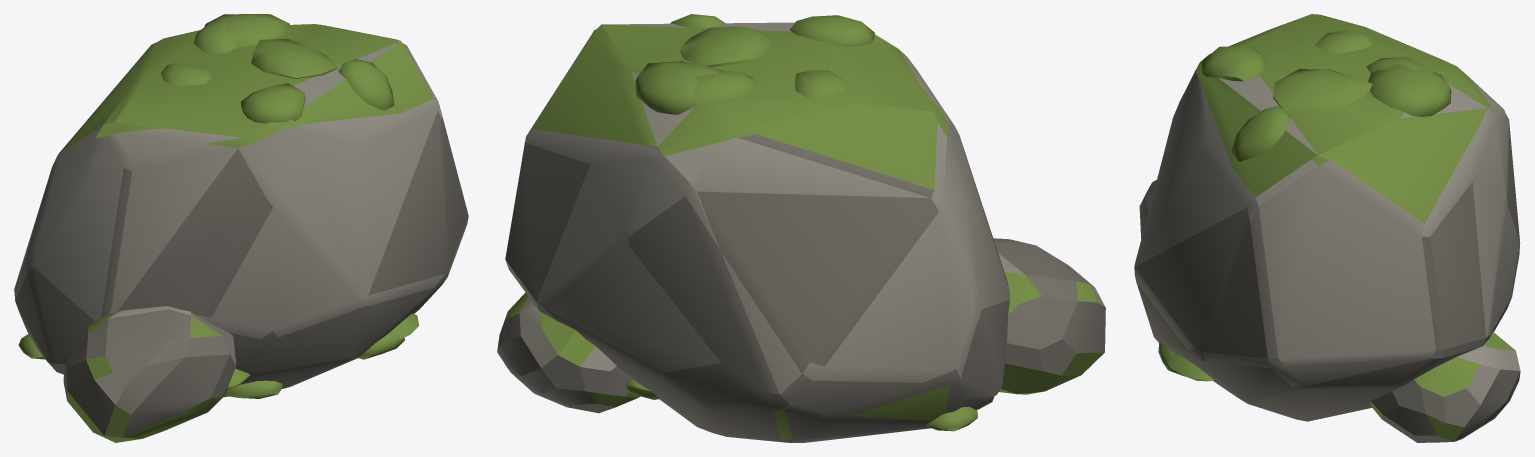
The model's file is rock_c.glb.
The picture shows the model from 3 angles, left to right: view 1: azimuth 30°, elevation 25°; view 2: azimuth 150°, elevation 25°; view 3: azimuth 270°, elevation 25°; orthographic projection. The views are drawn at different scales.
Visible parts, largest first — view 1: rock_c, rock_c_moss; view 2: rock_c, rock_c_moss; view 3: rock_c, rock_c_moss.
Boxes of the visible parts, <box> form: rock_c: <box>14,24,468,442</box>; rock_c_moss: <box>18,14,419,398</box>; rock_c: <box>497,22,1105,442</box>; rock_c_moss: <box>626,14,977,431</box>; rock_c: <box>1134,14,1520,442</box>; rock_c_moss: <box>1158,30,1451,381</box>.
Size of what is drawn, in the model's own units: 2 by 1.32 by 1.48.
